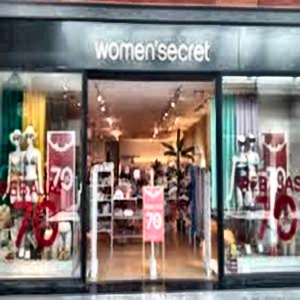women_secret: (166, 18, 260, 55)
